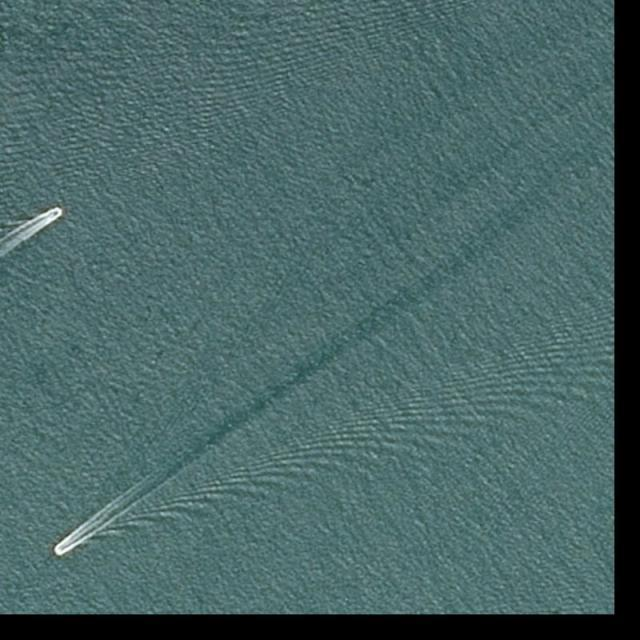ship: (49, 206, 62, 219), (53, 545, 66, 556)
